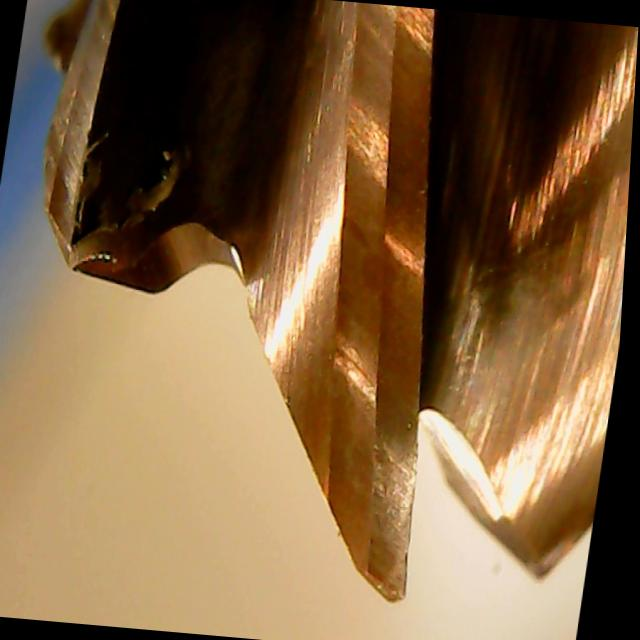Tool-wear-class-1: (292, 364, 457, 616)
